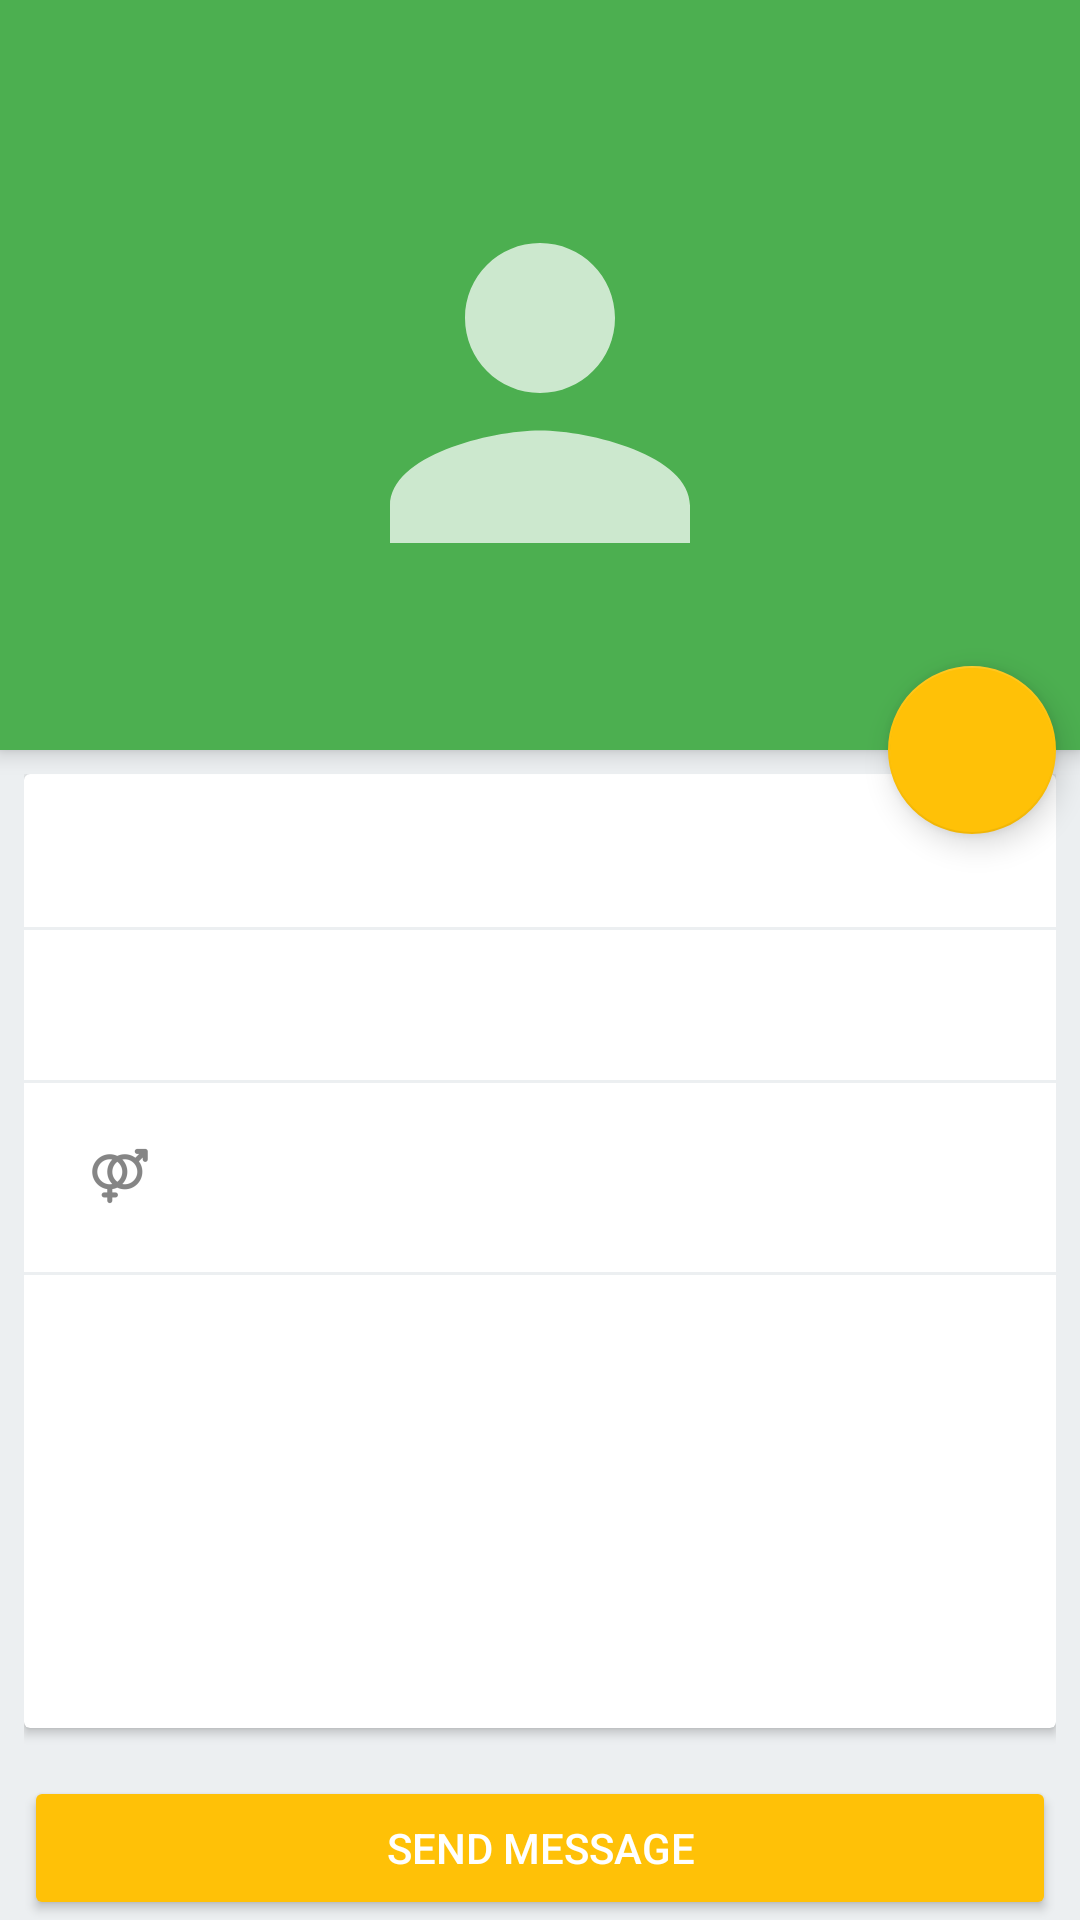

Where icons sit on this 1080x1920 app screen, as (left=x1, top=y1, right=x2, bottom=y2):
person: (left=390, top=243, right=690, bottom=543)
